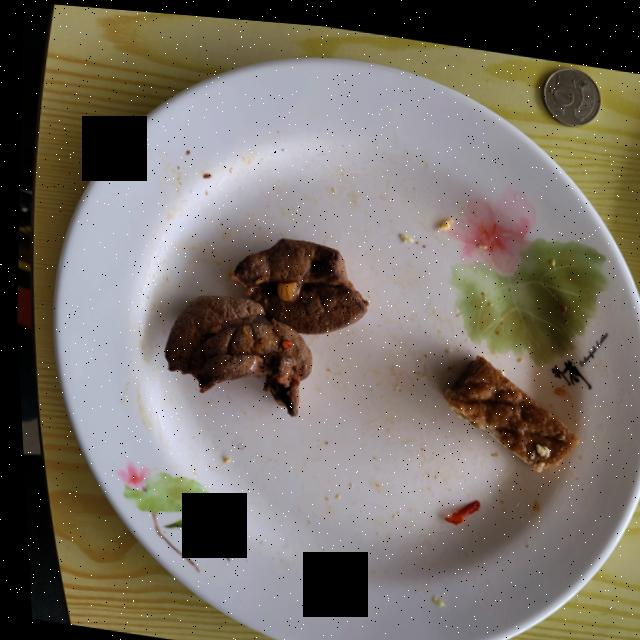coin: (542, 58, 598, 116)
egg tofu: (440, 348, 573, 463)
pig liver: (161, 233, 363, 411)
